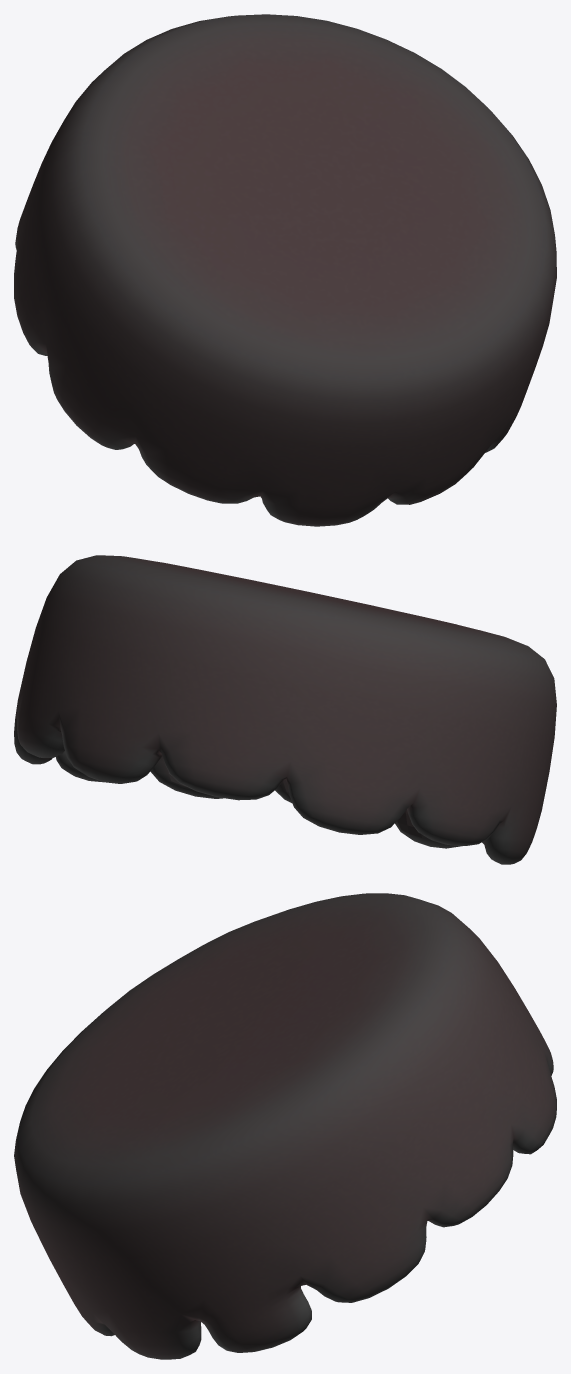
3 renders of one model, top to bottom at view 1: azimuth 30°, elevation 25°; view 2: azimuth 150°, elevation 25°; view 3: azimuth 270°, elevation 25°, orthographic.
Visible parts, largest first — view 1: Cylinder.012; view 2: Cylinder.012; view 3: Cylinder.012.
Part boxes in pixels (<box>): Cylinder.012: <box>14,14,556,526</box>; Cylinder.012: <box>14,555,556,864</box>; Cylinder.012: <box>14,893,556,1359</box>.
Bounding box in the file's own units: 6.2 × 4.67 × 6.22.
1 material, 1 textured.
